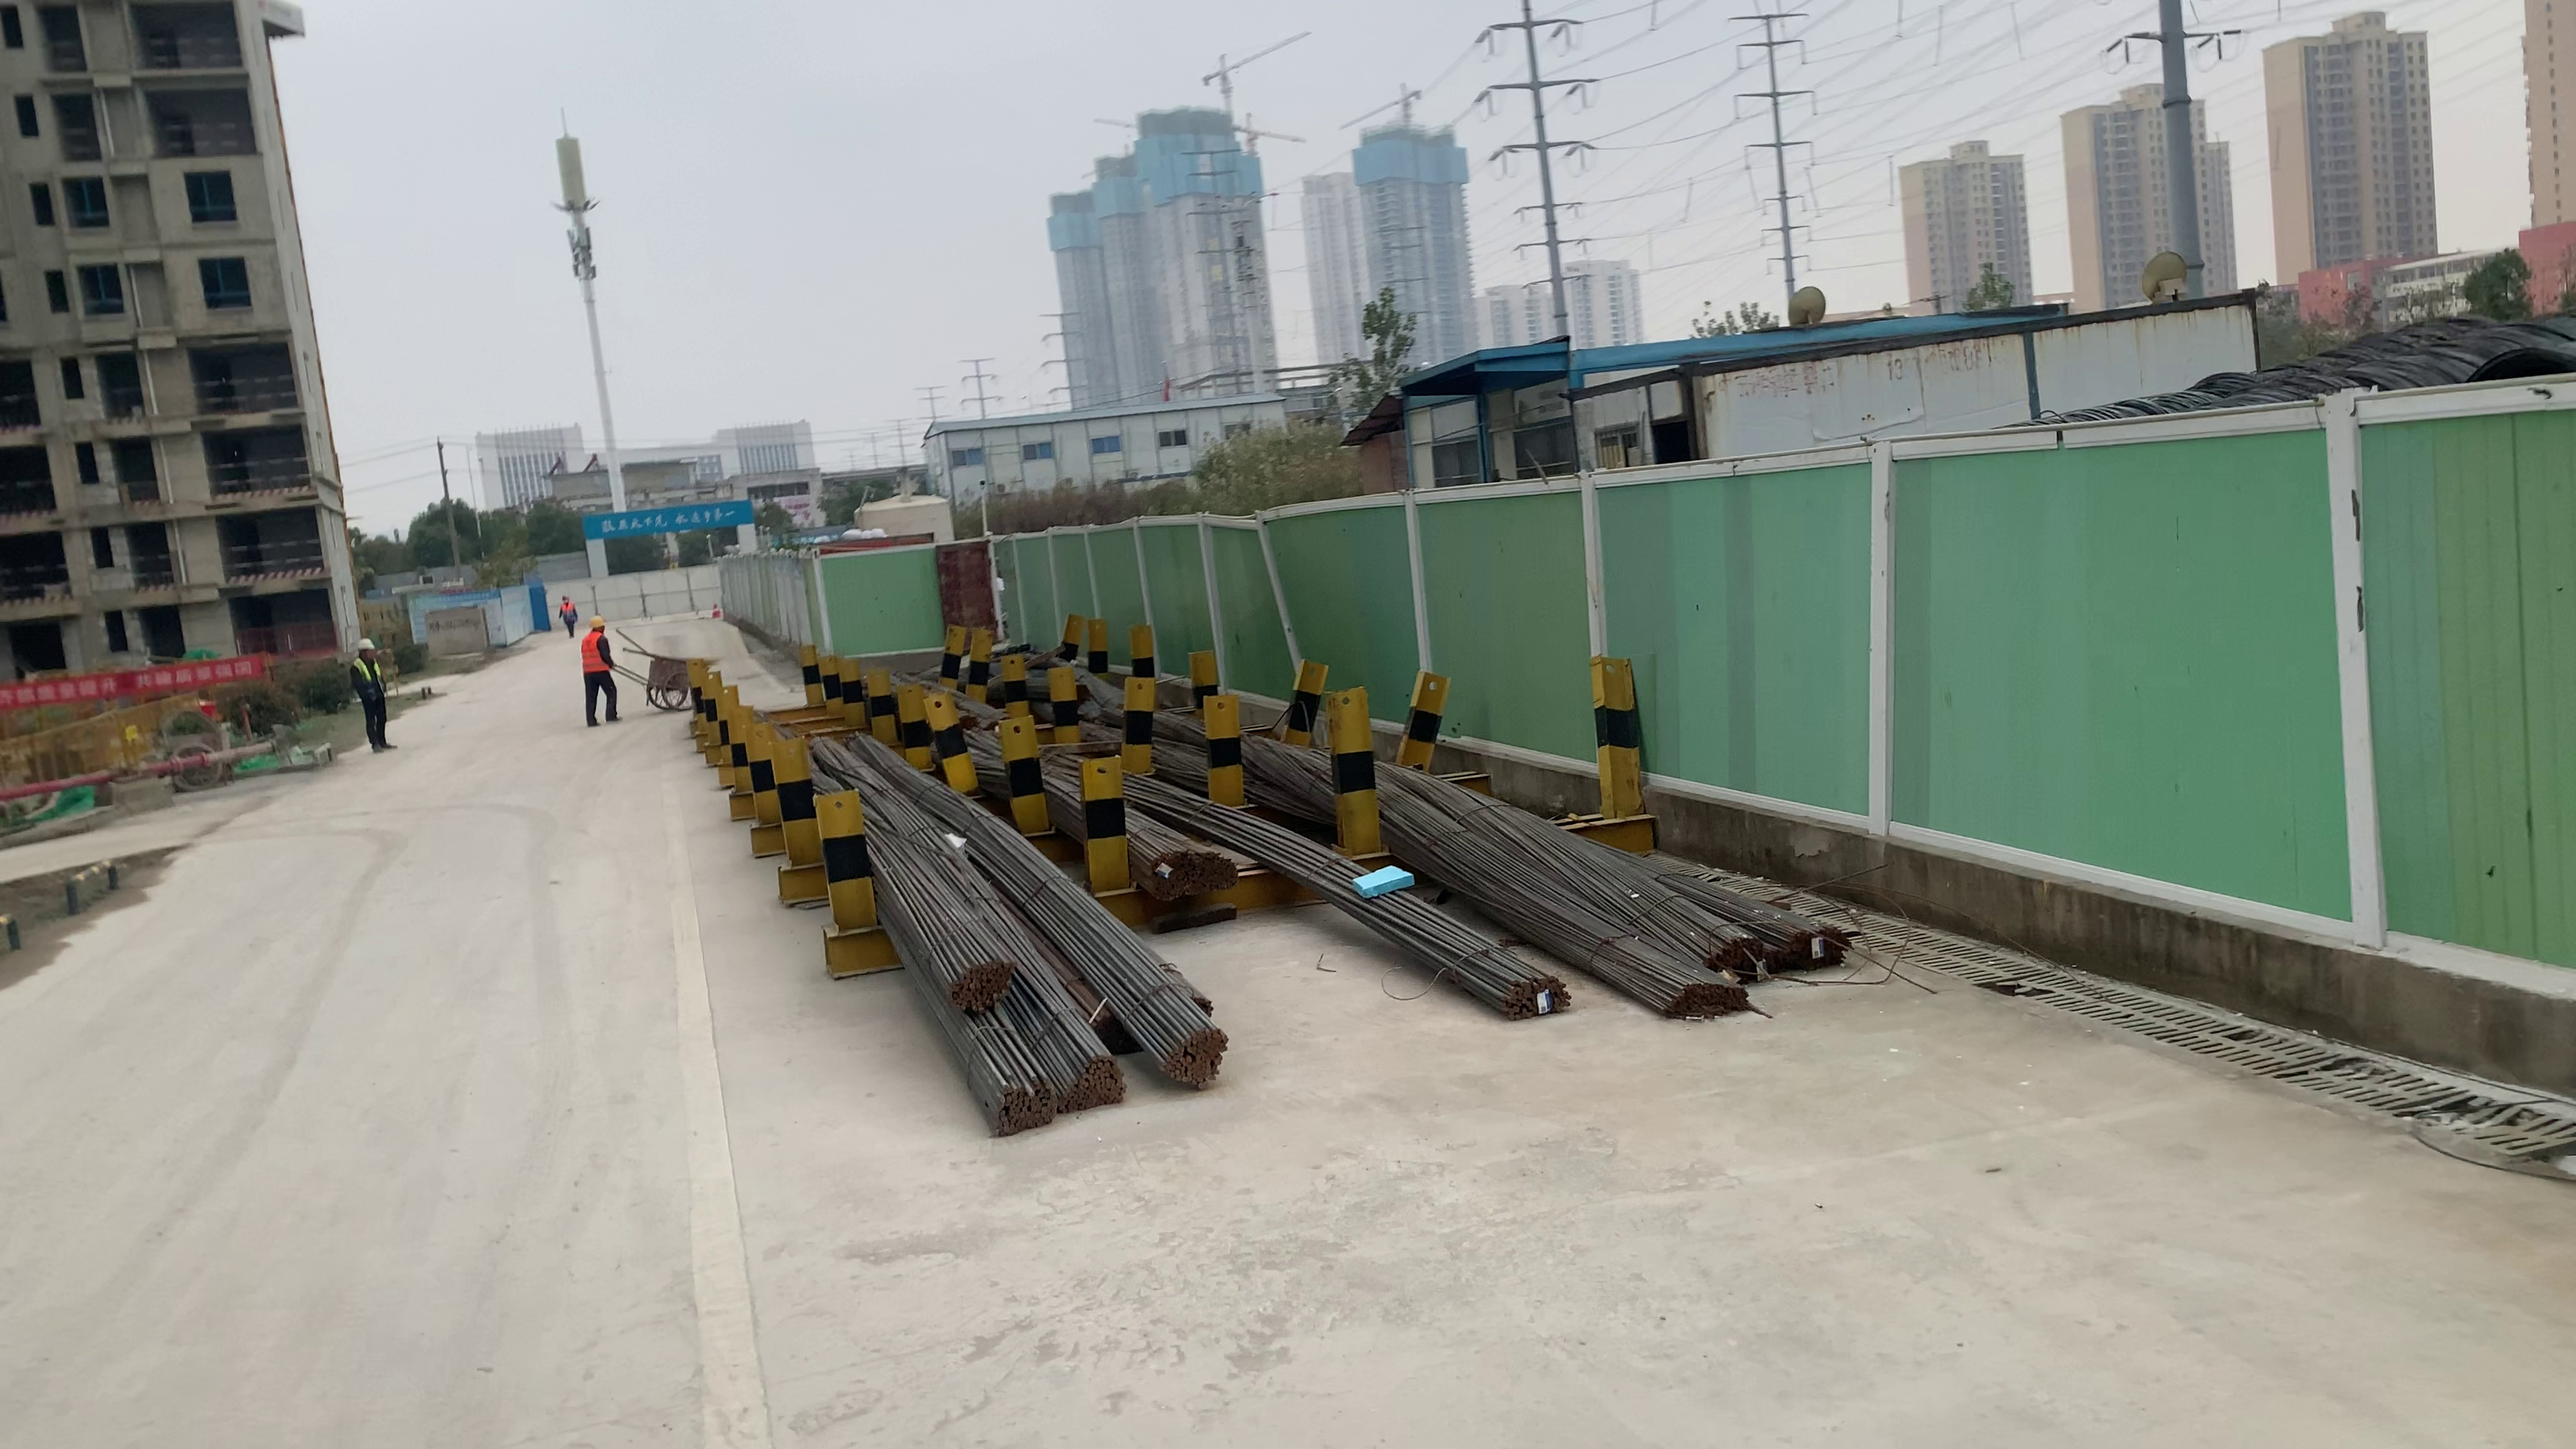rebar: (943, 957, 1016, 1014), (1058, 1054, 1127, 1113), (991, 1074, 1054, 1134), (1663, 978, 1752, 1019), (1493, 977, 1573, 1019), (1780, 929, 1854, 973), (1162, 1030, 1226, 1081), (1709, 932, 1767, 975), (1194, 851, 1246, 899), (1088, 1005, 1131, 1046), (1148, 853, 1185, 899)
